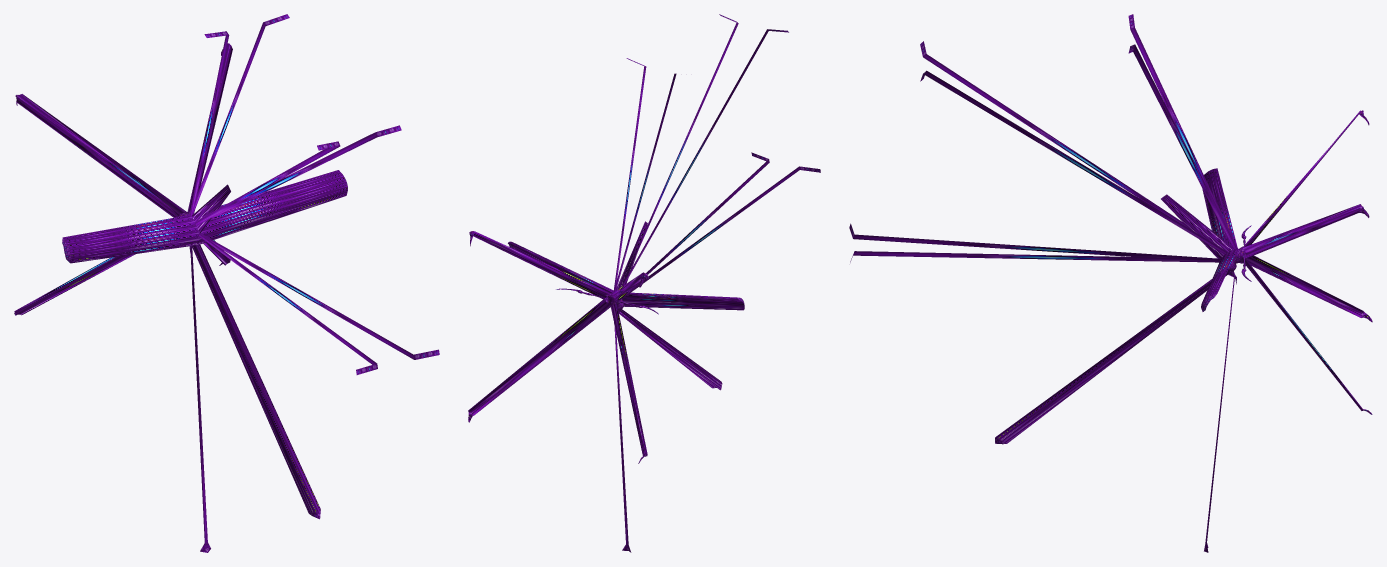
The picture shows the model from 3 angles, left to right: view 1: azimuth 30°, elevation 25°; view 2: azimuth 150°, elevation 25°; view 3: azimuth 270°, elevation 25°; orthographic projection. The views are drawn at different scales.
Parts seen in each view (by area): view 1: frame_0; view 2: frame_0; view 3: frame_0.
Boxes of the visible parts, left/top/right/bottom form: frame_0: left=14, top=14, right=439, bottom=552; frame_0: left=468, top=14, right=820, bottom=552; frame_0: left=849, top=14, right=1372, bottom=552.
Size of the model in its own units: 12.25 by 23.05 by 21.09.
Materials: 1 (1 with a texture image).
